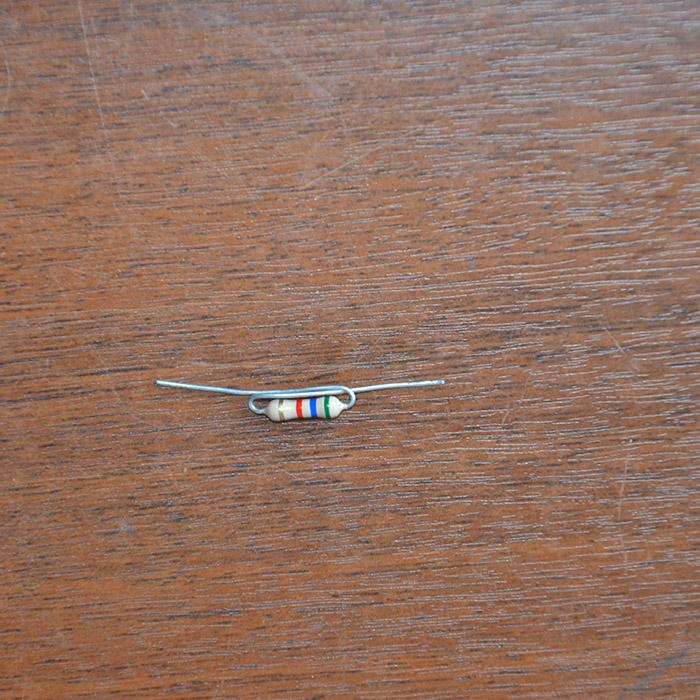resistor: (262, 395, 347, 422)
